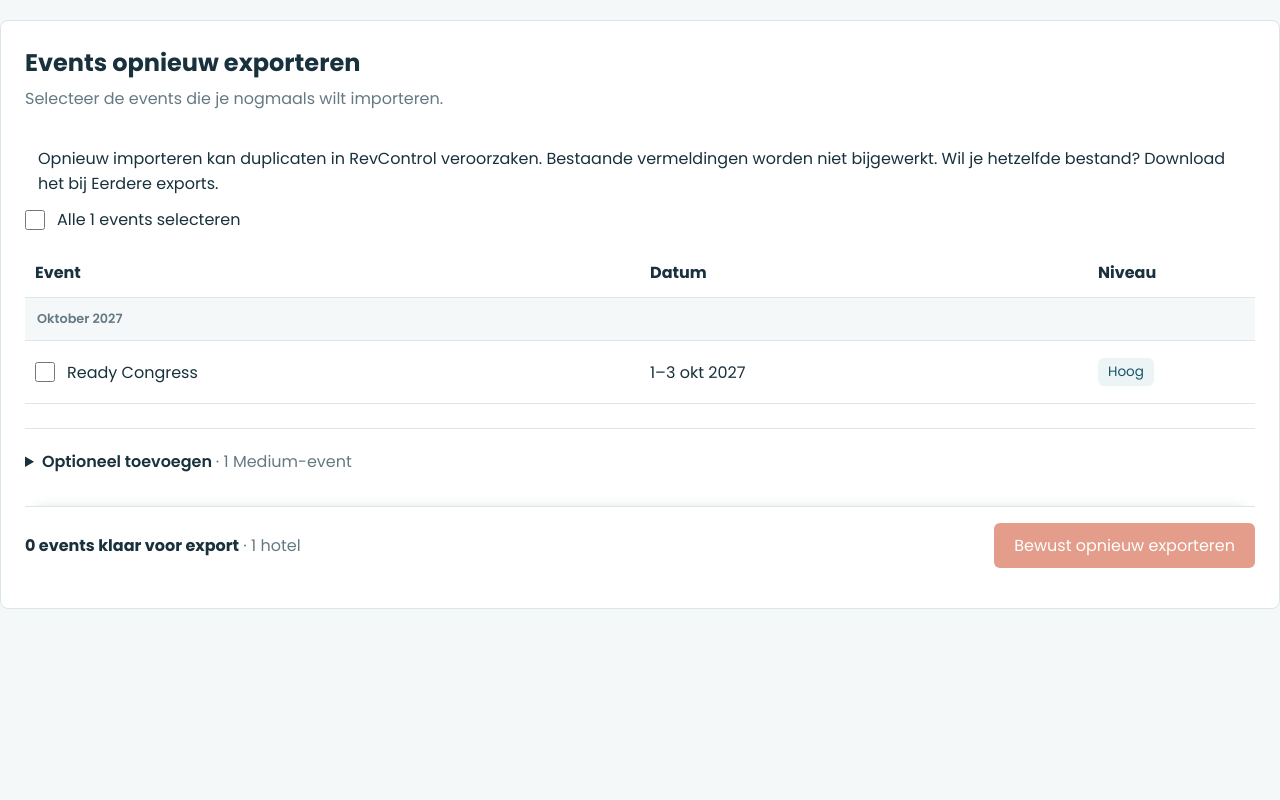
Test: requires deliberate selection for re-export, including select all without opting in announcements
Expected: the text "Opnieuw importeren kan duplicaten" is shown, [38, 147, 1225, 195]
Expected: the button "Bewust opnieuw exporteren" is disabled, [994, 523, 1255, 568]
Click the checkbox labelled "Alle 1 events selecteren" at (35, 220), box [25, 210, 45, 230]
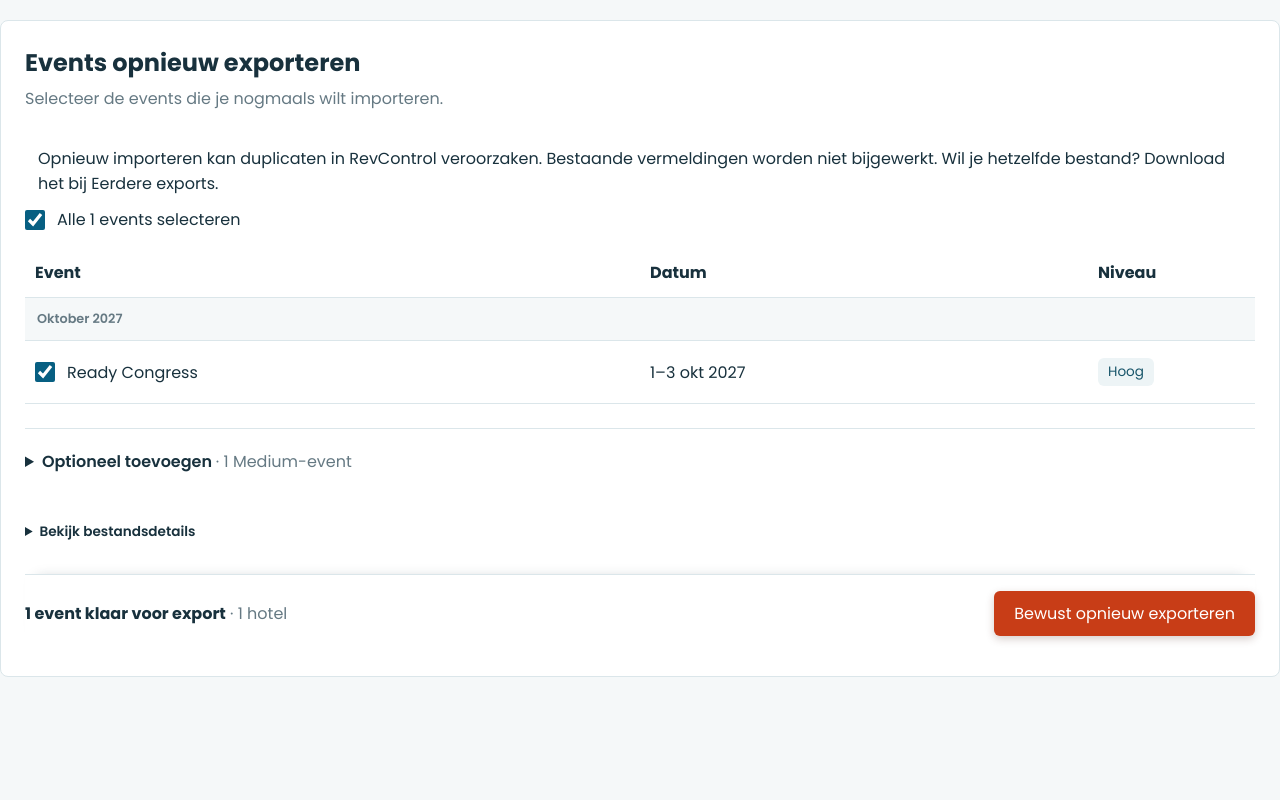
Result: the text "1 event klaar voor export" is shown at [25, 602, 226, 625]
Click the checkbox labelled "Alle 1 events selecteren" at (35, 220), box [25, 210, 45, 230]
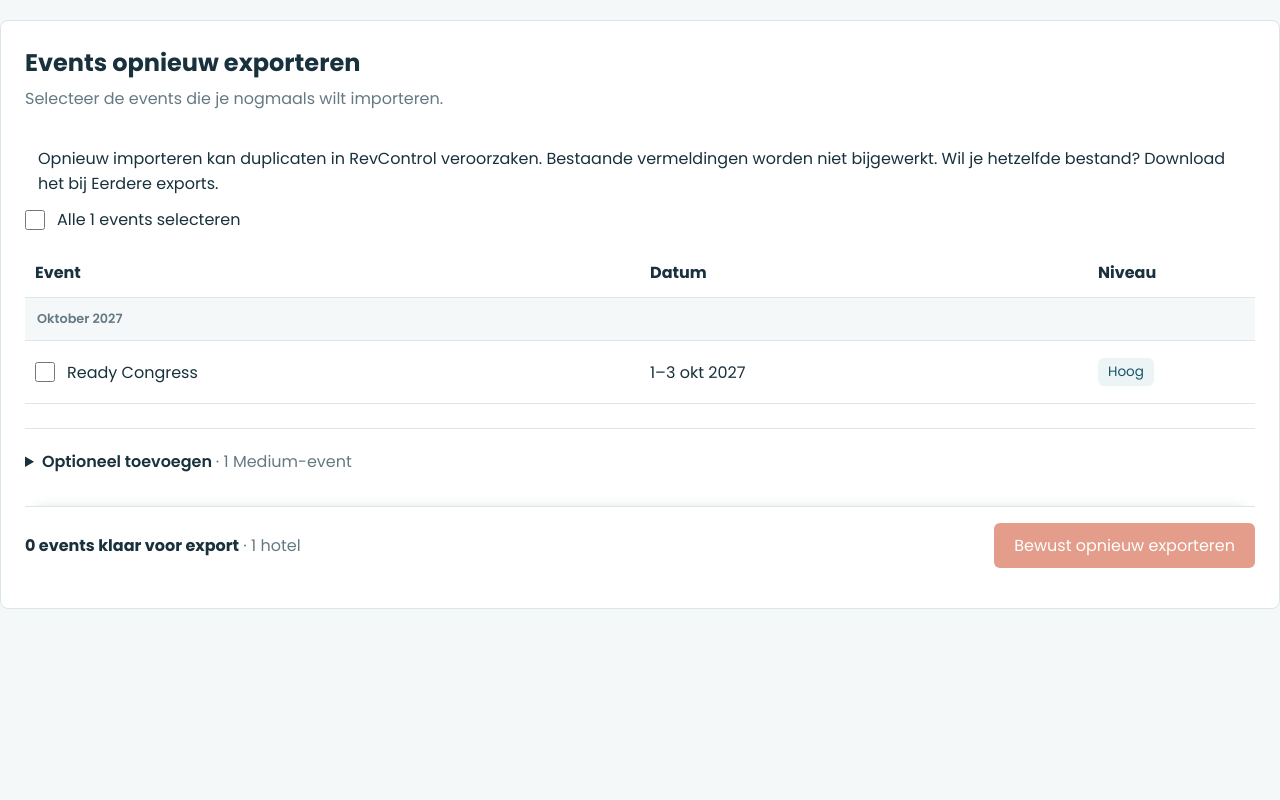
Result: the button "Bewust opnieuw exporteren" is disabled at [994, 523, 1255, 568]
